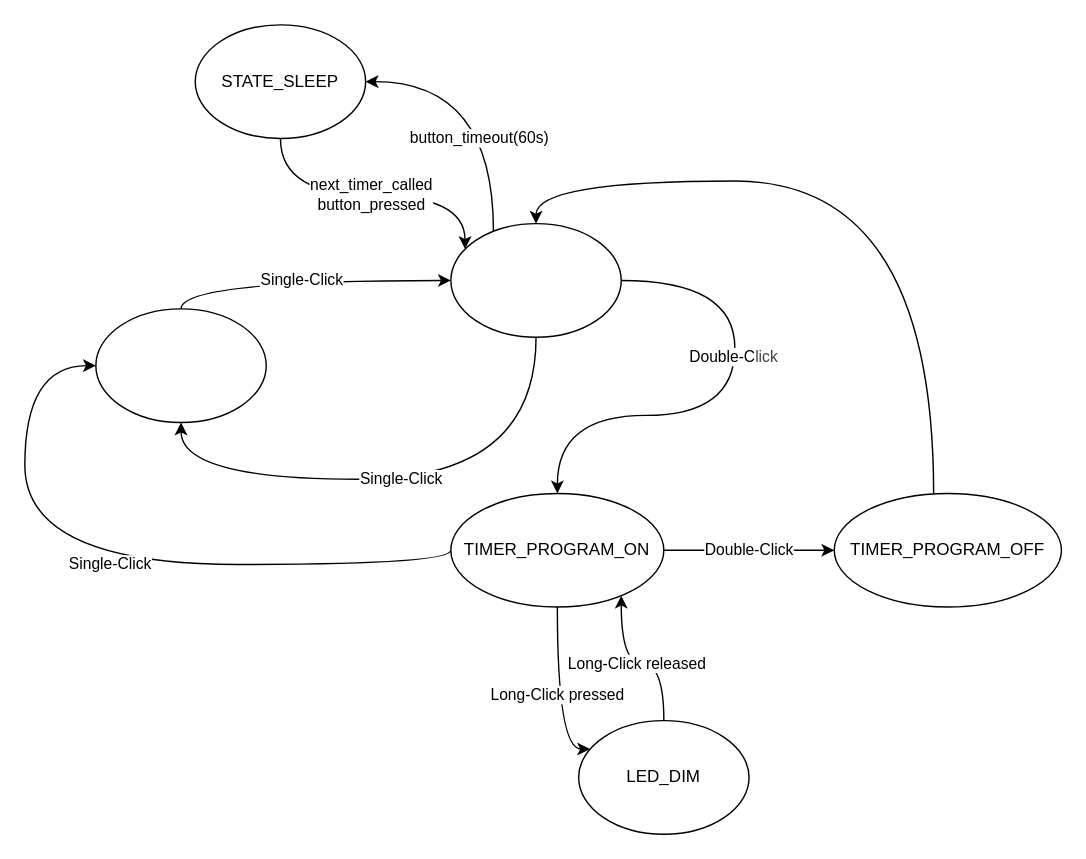
Image size: 1086x859. Some labels were removed from this diagram. The box of each missing label's shape, as (x1, y1, x2, y2) in pixels:
STATE_OFF: (94, 307, 266, 422)
TIMER_RUN: (449, 222, 621, 337)
